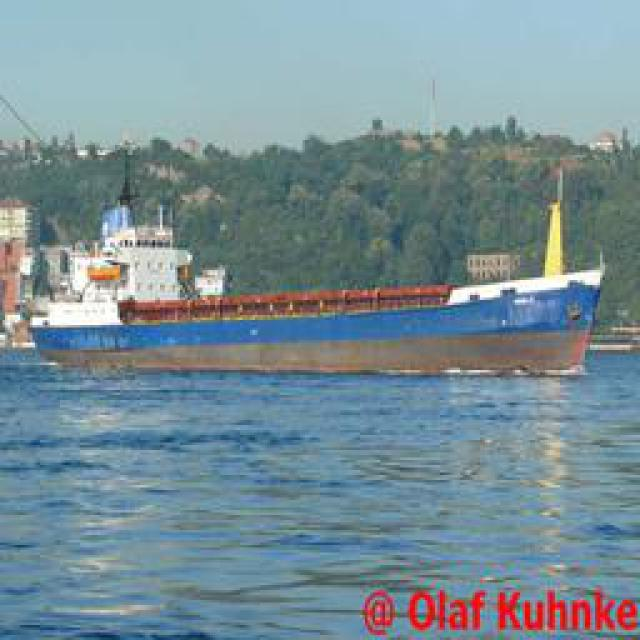Ship: (22, 244, 615, 374)
